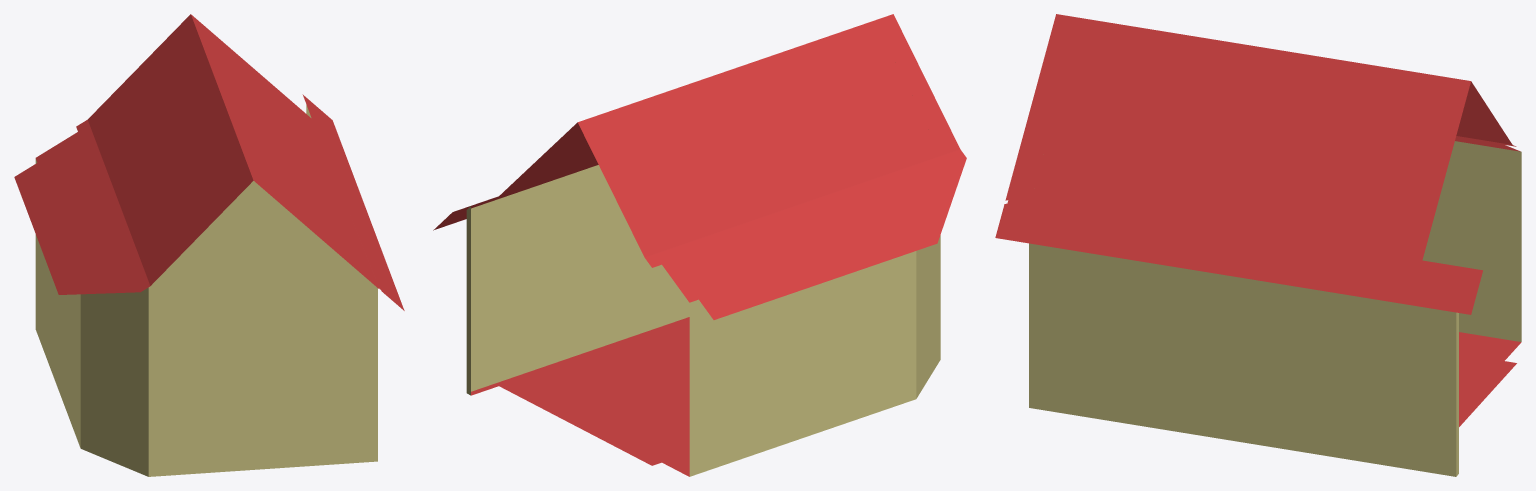
The picture shows the model from 3 angles, left to right: view 1: azimuth 30°, elevation 25°; view 2: azimuth 150°, elevation 25°; view 3: azimuth 270°, elevation 25°; orthographic projection. The views are drawn at different scales.
Size of the model in its own units: 18.96 by 20.2 by 14.1.
